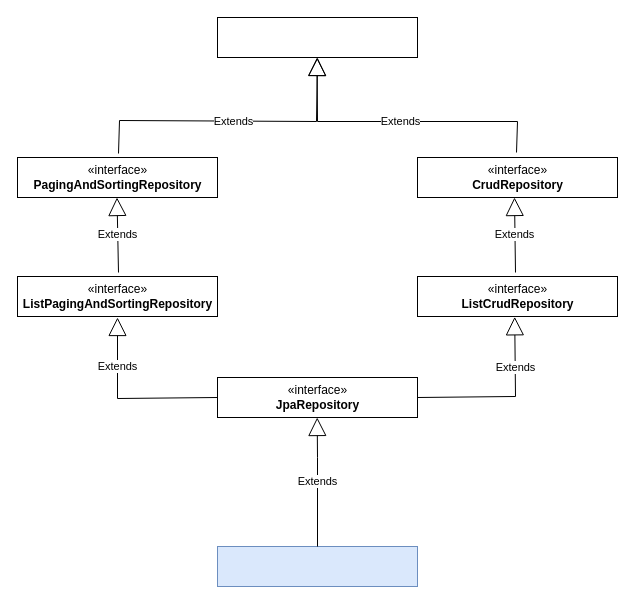
The diagram is 635 pixels wide and 604 high, and some of its shapes have lost their labels. Each missing label, with the box of its shape:
«interface» Repository: (216, 16, 418, 58)
«interface» StudentRepository: (216, 546, 418, 586)
